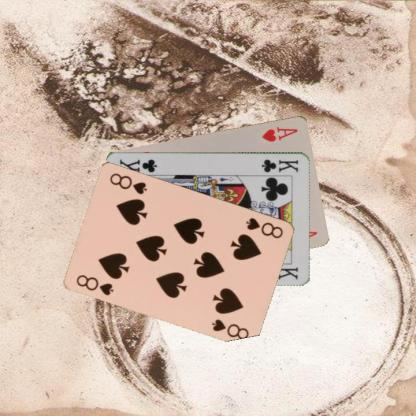8s: (244, 215, 285, 240), (74, 272, 115, 297)
Ah: (260, 124, 300, 143)
Kc: (259, 156, 299, 173)
